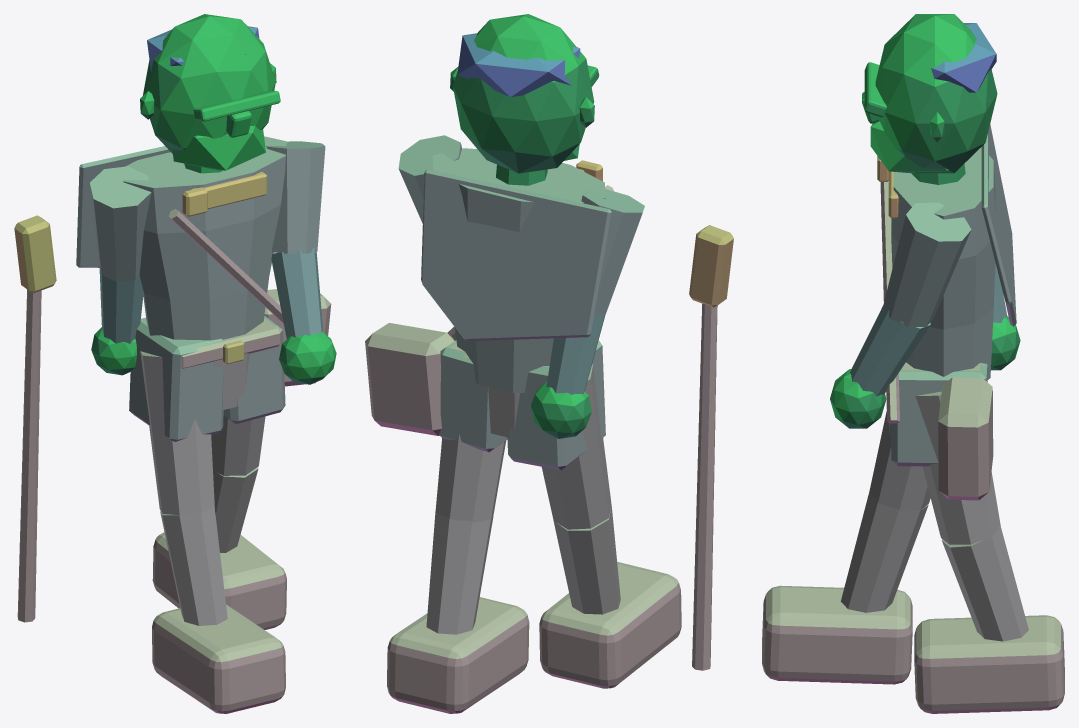
Rendered from npc_scout_down_l_v01.glb.
3 renders of one model, left to right at view 1: azimuth 30°, elevation 25°; view 2: azimuth 150°, elevation 25°; view 3: azimuth 270°, elevation 25°, orthographic. The views are drawn at different scales.
Parts seen in each view (by area): view 1: GEO_npc_scout_down_l_v01; view 2: GEO_npc_scout_down_l_v01; view 3: GEO_npc_scout_down_l_v01.
Boxes of the visible parts, left/top/right/bottom form: GEO_npc_scout_down_l_v01: left=14, top=14, right=336, bottom=713; GEO_npc_scout_down_l_v01: left=365, top=14, right=733, bottom=713; GEO_npc_scout_down_l_v01: left=762, top=14, right=1064, bottom=713.
Size of the model in its own units: 1.1 by 2.06 by 0.8399.
